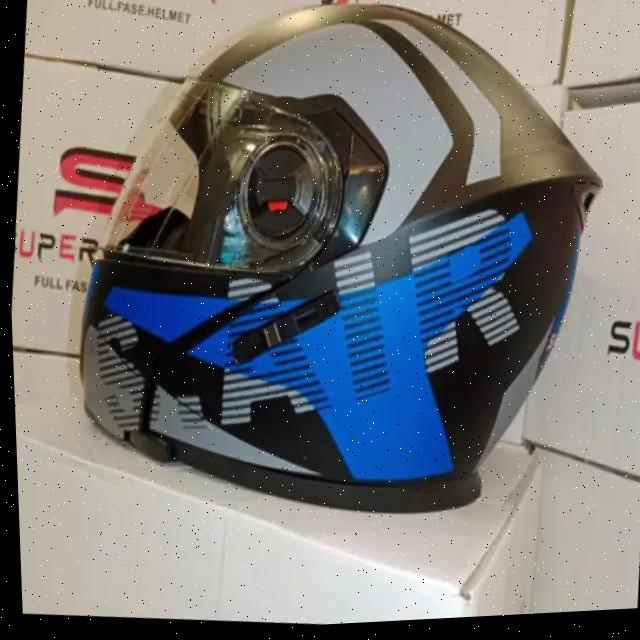Helmet: (50, 0, 626, 562)
